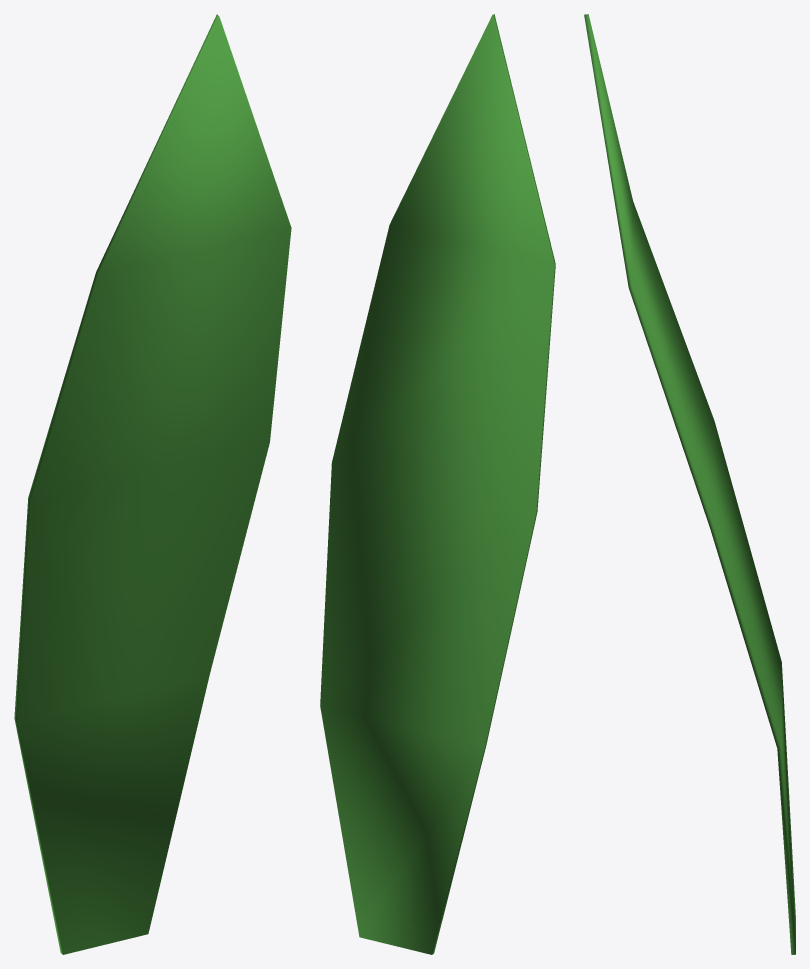
The model's file is Grass.fbx.
3 views of the same model, side by side, from view 1: azimuth 30°, elevation 25°; view 2: azimuth 150°, elevation 25°; view 3: azimuth 270°, elevation 25° (orthographic). The views are drawn at different scales.
Visible parts, largest first — view 1: Garss; view 2: Garss; view 3: Garss.
Boxes of the visible parts, box(x1,y1,x2,y2) form: Garss: box(14, 14, 291, 954); Garss: box(320, 14, 555, 954); Garss: box(584, 14, 795, 954).
Size of the model in its own units: 5.45 by 22.02 by 4.58.
